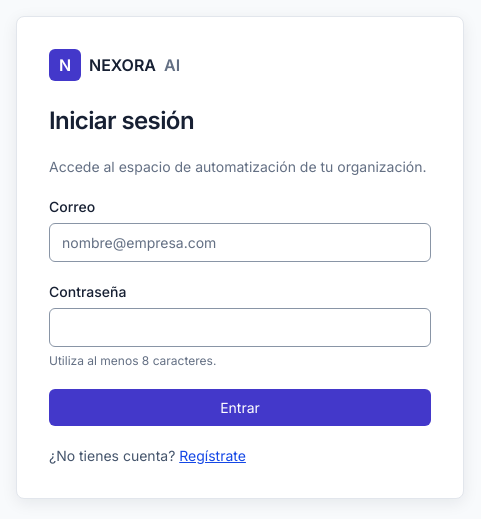
it: authentication › validates password before making a request
Type "qa@example.com" into the field labelled "Correo" at (240, 242), box [49,222,431,262]
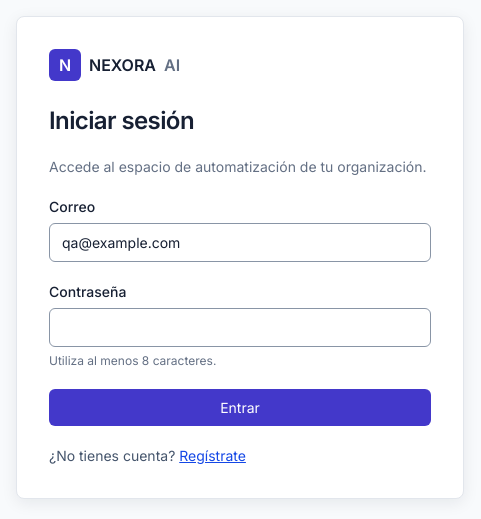
Type "short" into the password field labelled "Contraseña" at (240, 327), box [49,308,431,346]
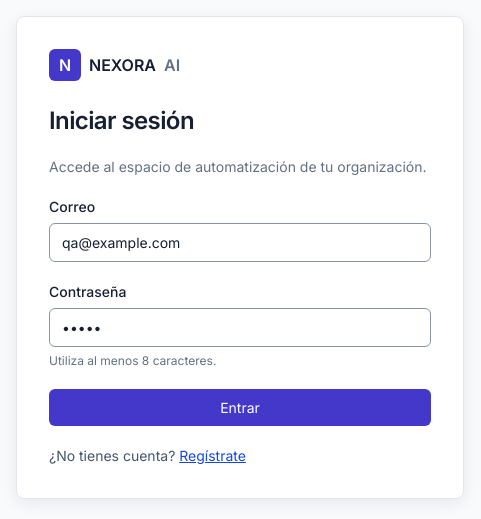
Click the button "Entrar" at (240, 407), box [49,388,431,426]
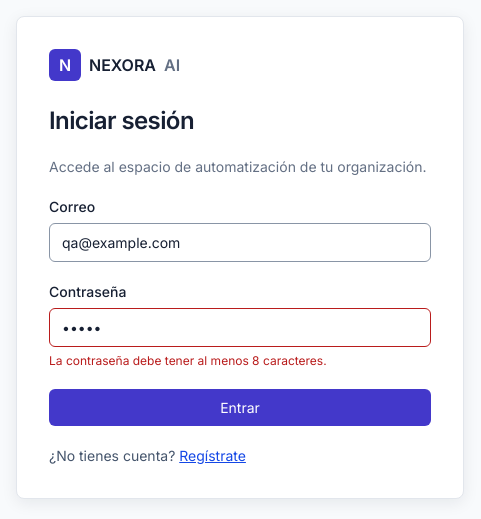
Check: the text "La contraseña debe tener al menos 8 caracteres." is shown, box [49,352,327,368]
